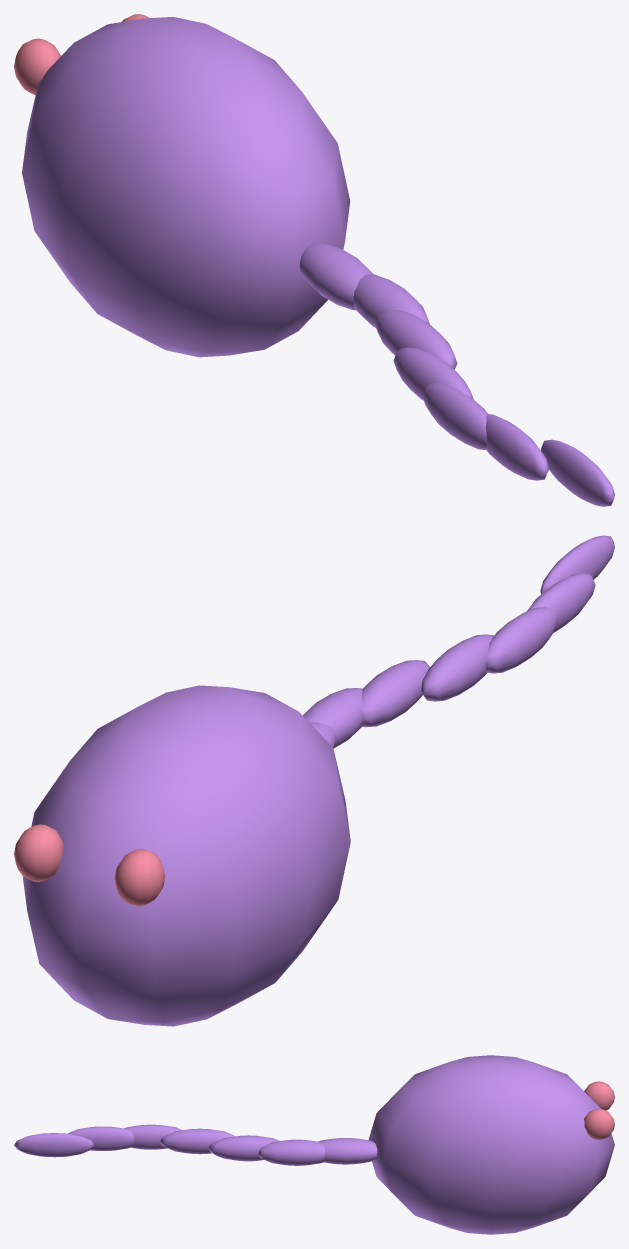
File: player-nightmare.glb
3 renders of one model, top to bottom at view 1: azimuth 30°, elevation 25°; view 2: azimuth 150°, elevation 25°; view 3: azimuth 270°, elevation 25°, orthographic. The views are drawn at different scales.
Parts seen in each view (by area): view 1: head, tail-1, tail-7, tail-5, tail-6, tail-3, tail-2, tail-4, player-nightmare-8; view 2: head, tail-3, tail-5, tail-4, player-nightmare-8, player-nightmare-9, tail-2, tail-7, tail-6; view 3: head, tail-7, tail-2, tail-1, tail-4, tail-3, tail-6, tail-5, player-nightmare-9, player-nightmare-8.
Part boxes in pixels (left/top/right/bottom): head: left=22, top=17, right=350, bottom=357; tail-1: left=299, top=243, right=373, bottom=310; tail-7: left=540, top=439, right=614, bottom=506; tail-5: left=422, top=383, right=487, bottom=450; tail-6: left=485, top=414, right=549, bottom=480; tail-3: left=374, top=309, right=457, bottom=369; tail-2: left=353, top=274, right=429, bottom=327; tail-4: left=393, top=347, right=473, bottom=400; player-nightmare-8: left=14, top=38, right=60, bottom=95; head: left=22, top=685, right=350, bottom=1026; tail-3: left=362, top=660, right=429, bottom=727; tail-5: left=485, top=606, right=558, bottom=673; tail-4: left=421, top=634, right=493, bottom=701; player-nightmare-8: left=114, top=849, right=165, bottom=906; player-nightmare-9: left=14, top=824, right=63, bottom=881; tail-2: left=303, top=688, right=362, bottom=748; tail-7: left=540, top=535, right=614, bottom=594; tail-6: left=527, top=573, right=595, bottom=632; head: left=368, top=1055, right=614, bottom=1234; tail-7: left=14, top=1133, right=94, bottom=1157; tail-2: left=258, top=1139, right=324, bottom=1165; tail-1: left=318, top=1138, right=377, bottom=1164; tail-4: left=159, top=1128, right=235, bottom=1154; tail-3: left=208, top=1135, right=279, bottom=1161; tail-6: left=68, top=1126, right=134, bottom=1150; tail-5: left=124, top=1124, right=182, bottom=1149; player-nightmare-9: left=584, top=1108, right=614, bottom=1139; player-nightmare-8: left=584, top=1081, right=614, bottom=1110.
Bounding box in the file's own units: 0.3 × 0.34 × 1.11.
